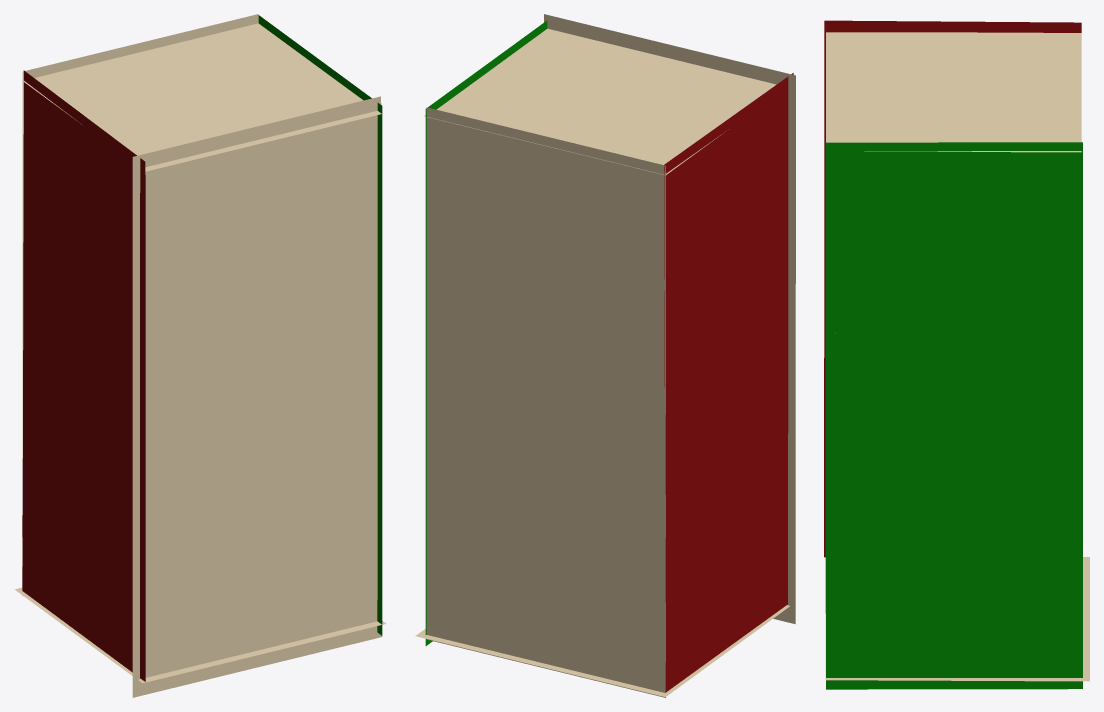
File: map.dae
3 views of the same model, side by side, from view 1: azimuth 30°, elevation 25°; view 2: azimuth 150°, elevation 25°; view 3: azimuth 270°, elevation 25° (orthographic). The views are drawn at different scales.
Parts seen in each view (by area): view 1: floor, right_wall, front_wall, left_wall, ceiling, back_wall; view 2: ceiling, right_wall, front_wall, floor, left_wall, back_wall; view 3: left_wall, front_wall, right_wall, back_wall.
Part boxes in pixels (bbox=[...]): floor: bbox=[132, 96, 382, 697]; right_wall: bbox=[22, 70, 145, 681]; front_wall: bbox=[23, 23, 381, 171]; left_wall: bbox=[258, 15, 382, 635]; ceiling: bbox=[22, 14, 258, 596]; back_wall: bbox=[14, 587, 386, 683]; ceiling: bbox=[426, 107, 665, 697]; right_wall: bbox=[664, 73, 793, 692]; front_wall: bbox=[424, 28, 776, 175]; floor: bbox=[544, 14, 795, 624]; left_wall: bbox=[425, 20, 547, 645]; back_wall: bbox=[415, 605, 789, 696]; left_wall: bbox=[825, 142, 1082, 689]; front_wall: bbox=[826, 32, 1081, 152]; right_wall: bbox=[824, 20, 1081, 557]; back_wall: bbox=[825, 557, 1089, 681].
Bounding box in the file's own units: 5.34 × 4.73 × 10.96.
